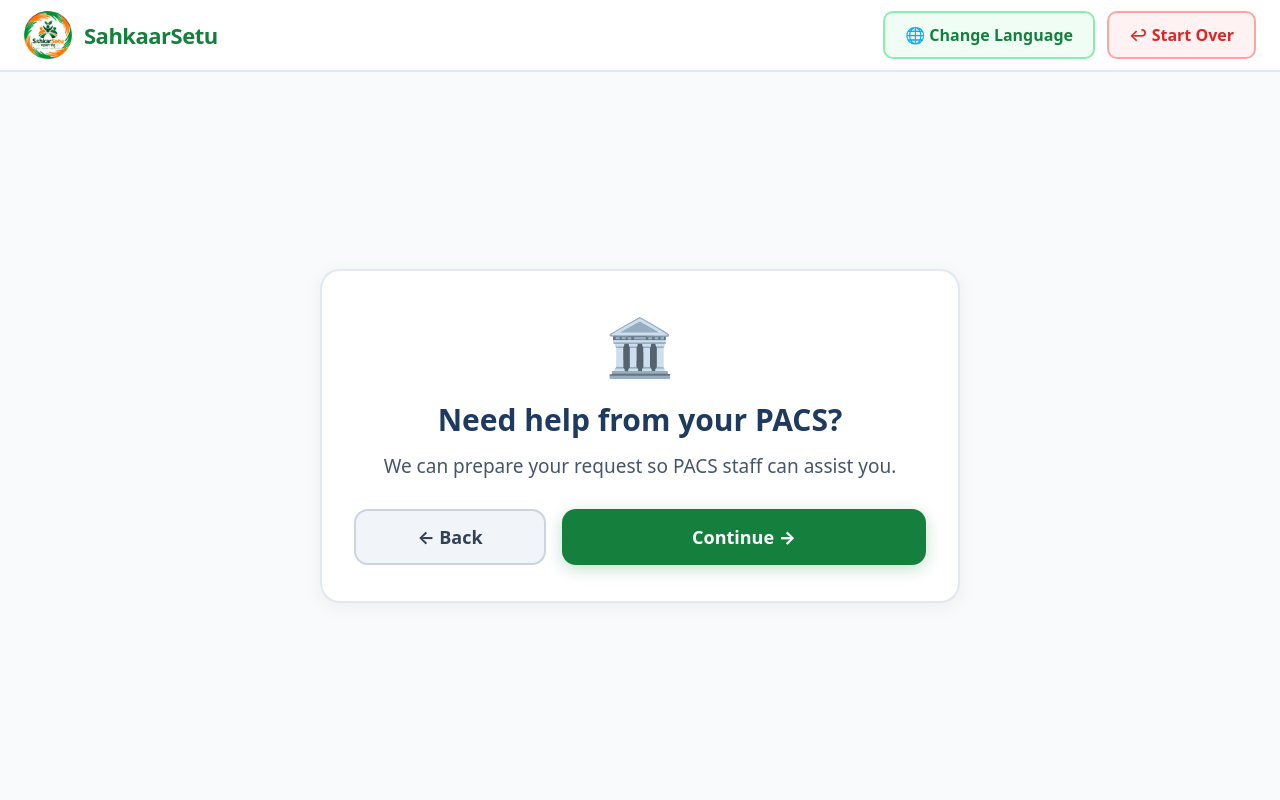
Test: K7: 58mm Thermal Printer System › Screen Integration: HelpScreen › generates PACS reference code and renders Print Slip button on Continue
# Click Continue
Click the button "Continue →" at (744, 537), box [562,509,926,565]
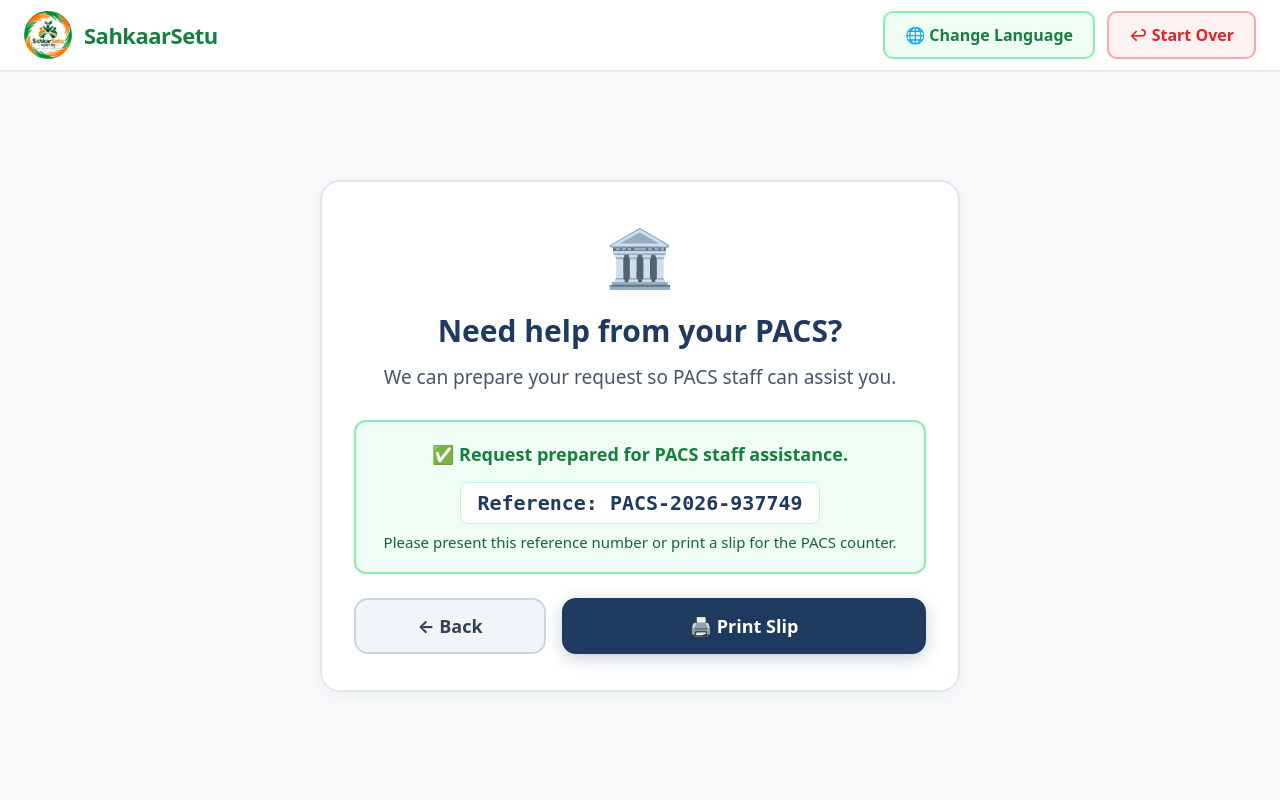
Now the text "✅ Request prepared for PACS staff assistance." is shown, box [432,442,848,466]
Now the text "PACS-2026-937749" is shown, box [610,491,803,515]
Click the button "🖨️ Print Slip" at (744, 626), box [562,598,926,654]
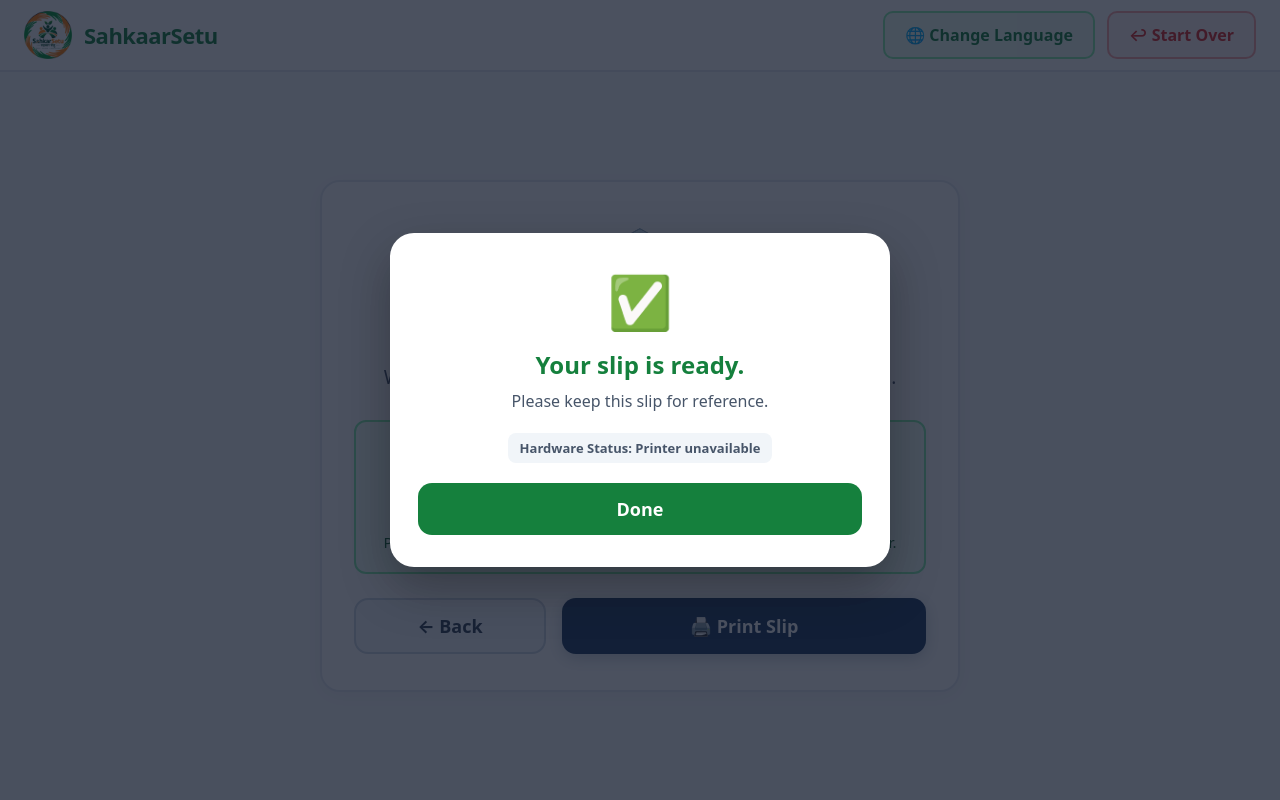
Now the dialog is shown
Now the heading "Your slip is ready." is shown, box [536,348,744,381]
